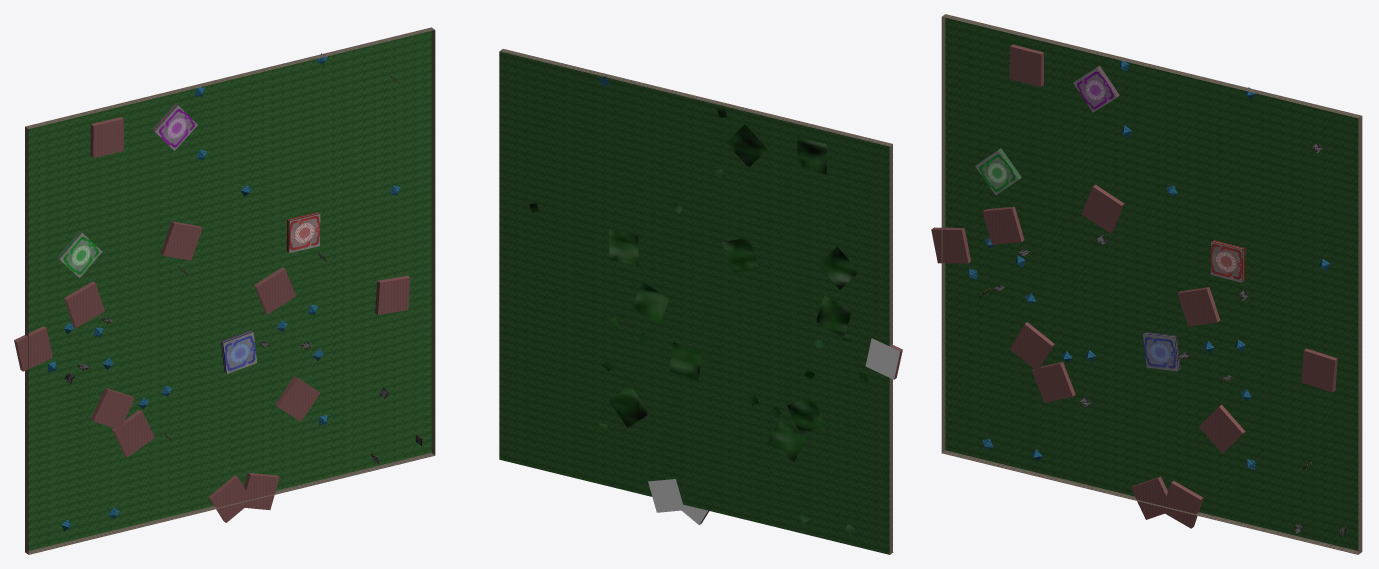
Rendered from bzworld.dae.
The picture shows the model from 3 angles, left to right: view 1: azimuth 30°, elevation 25°; view 2: azimuth 150°, elevation 25°; view 3: azimuth 330°, elevation 25°; orthographic projection. The views are drawn at different scales.
Visible parts, largest first — view 1: Component_115, Component_119, Component_120, Component_121, Component_012, Component_061, Component_108, Component_065, Component_086, Component_006, Component_094, Component_041 (+7 smaller); view 2: Component_115, Component_042, Component_119, Component_121, Component_005, Component_103, Component_066, Component_062, Component_009, Component_089, Component_013, Component_113 (+5 smaller); view 3: Component_115, Component_119, Component_121, Component_120, Component_012, Component_065, Component_108, Component_061, Component_006, Component_086, Component_041, Component_105 (+7 smaller).
Boxes of the visible parts, x1,y1,x2,y2 form: Component_115: (28, 31, 431, 550); Component_119: (25, 27, 435, 454); Component_120: (25, 453, 434, 554); Component_121: (25, 127, 28, 554); Component_012: (375, 275, 410, 314); Component_061: (90, 117, 123, 157); Component_108: (64, 281, 104, 327); Component_065: (14, 326, 52, 371); Component_086: (160, 221, 202, 260); Component_006: (254, 267, 295, 314); Component_094: (90, 388, 134, 428); Component_041: (112, 410, 154, 457); Component_115: (499, 51, 889, 554); Component_042: (768, 397, 826, 461); Component_119: (500, 49, 892, 146); Component_121: (889, 144, 892, 554); Component_005: (648, 479, 707, 524); Component_103: (726, 124, 767, 167); Component_066: (865, 338, 900, 379); Component_062: (797, 137, 826, 174); Component_009: (609, 228, 638, 265); Component_089: (669, 342, 701, 382); Component_013: (522, 289, 553, 325); Component_113: (815, 295, 852, 337); Component_115: (945, 17, 1358, 550); Component_119: (942, 14, 1362, 554); Component_121: (941, 17, 945, 452); Component_120: (941, 450, 1358, 554); Component_012: (1301, 348, 1337, 392); Component_065: (931, 227, 970, 263); Component_108: (982, 206, 1024, 244); Component_061: (1009, 44, 1043, 86); Component_006: (1177, 287, 1220, 326); Component_086: (1081, 184, 1124, 233); Component_041: (1031, 362, 1075, 402); Component_105: (1199, 404, 1245, 453).
Bounding box in the file's own units: 33890 × 2338 × 34368.
Materials: 15 (14 with a texture image).
